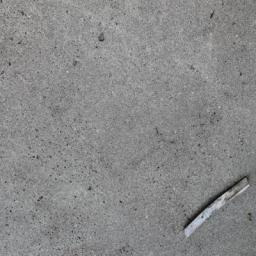FOD: (183, 176, 256, 242)
